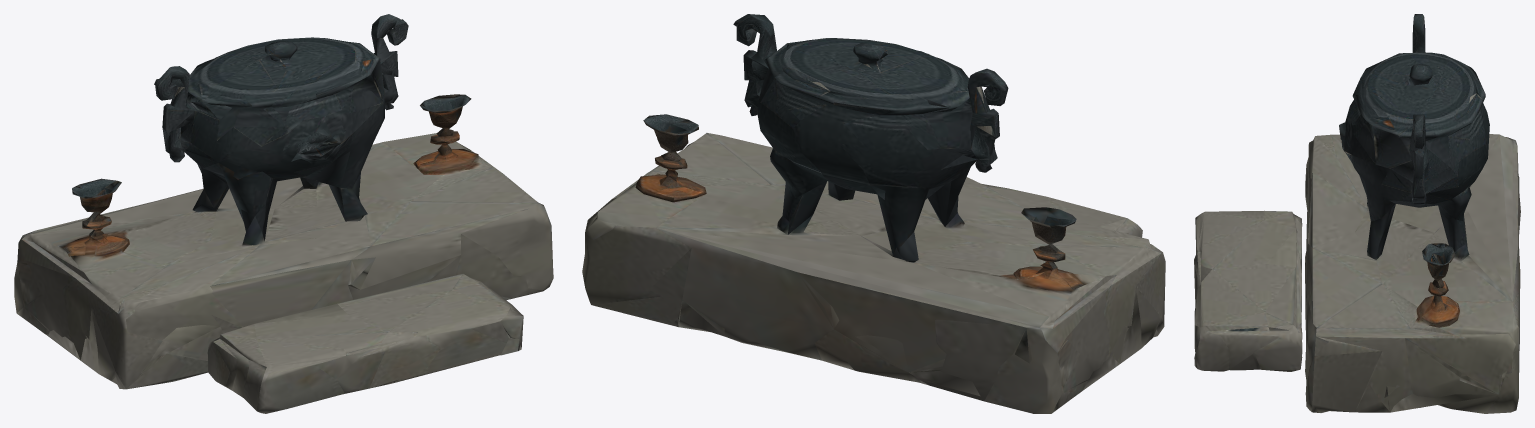
The model's file is altar.glb.
3 renders of one model, left to right at view 1: azimuth 30°, elevation 25°; view 2: azimuth 150°, elevation 25°; view 3: azimuth 270°, elevation 25°, orthographic. The views are drawn at different scales.
Parts seen in each view (by area): view 1: environment-altar, environment-altar-background; view 2: environment-altar, environment-altar-background; view 3: environment-altar, environment-altar-background.
Boxes of the visible parts, left/top/right/bottom form: environment-altar: left=14, top=14, right=553, bottom=413; environment-altar-background: left=17, top=23, right=527, bottom=388; environment-altar: left=582, top=14, right=1165, bottom=413; environment-altar-background: left=585, top=26, right=1161, bottom=396; environment-altar: left=1194, top=14, right=1520, bottom=413; environment-altar-background: left=1197, top=52, right=1520, bottom=412.
Bounding box in the file's own units: 92 × 52 × 62.
1 material, 1 textured.
